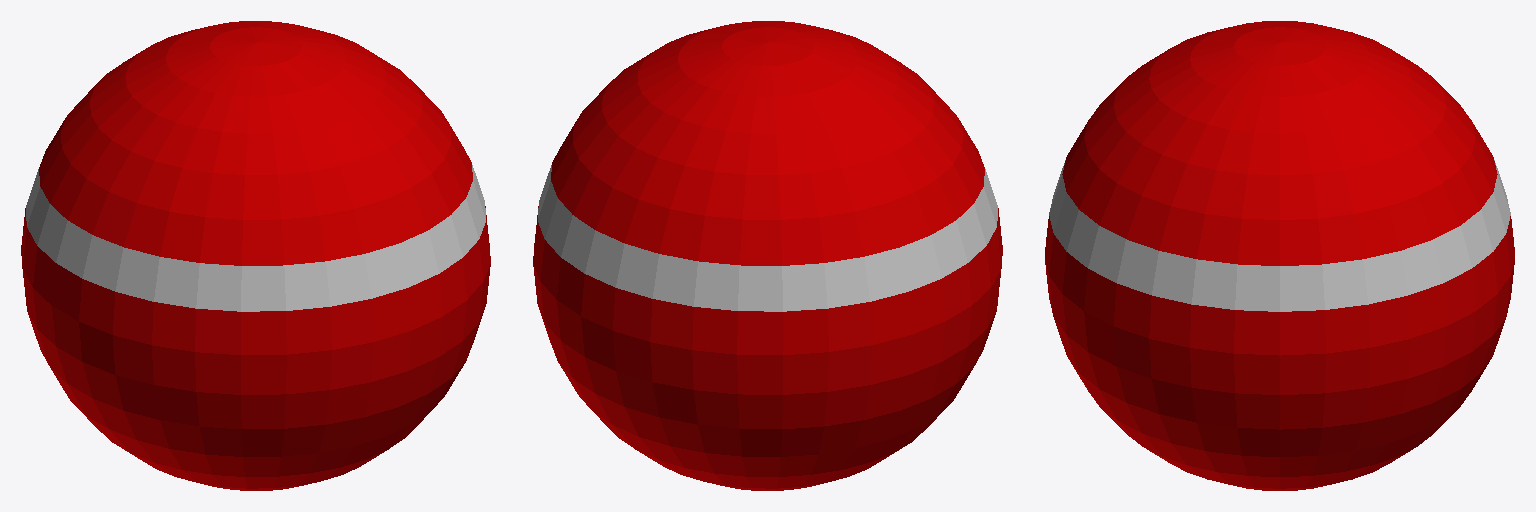
Rendered from lesson_18_ball.obj.
3 renders of one model, left to right at view 1: azimuth 30°, elevation 25°; view 2: azimuth 150°, elevation 25°; view 3: azimuth 270°, elevation 25°, orthographic.
Visible parts, largest first — view 1: Sphere; view 2: Sphere; view 3: Sphere.
Part boxes in pixels (bbox=[...]): Sphere: bbox=[21, 21, 490, 490]; Sphere: bbox=[533, 21, 1002, 490]; Sphere: bbox=[1045, 21, 1514, 490].
Bounding box in the file's own units: 2 × 2 × 2.